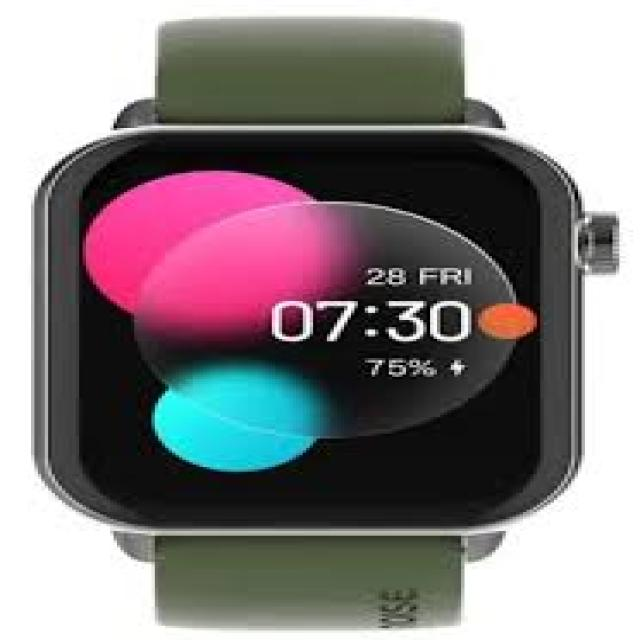objects: (36, 18, 616, 631)
